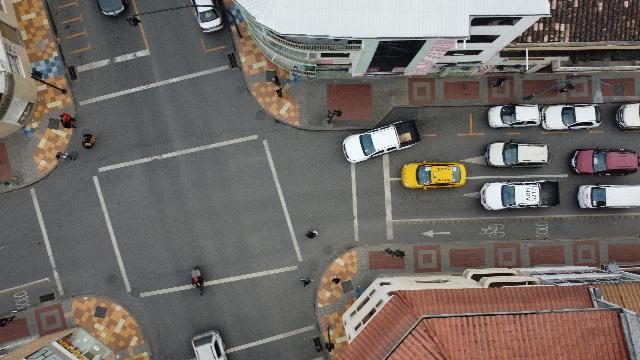Vehiculo: (342, 119, 422, 163), (480, 180, 560, 210), (570, 146, 640, 176), (484, 140, 550, 168), (402, 161, 466, 189), (577, 184, 639, 210), (542, 104, 602, 130), (488, 105, 540, 128), (190, 1, 223, 34), (191, 329, 227, 359), (616, 103, 640, 131), (98, 0, 128, 16)
